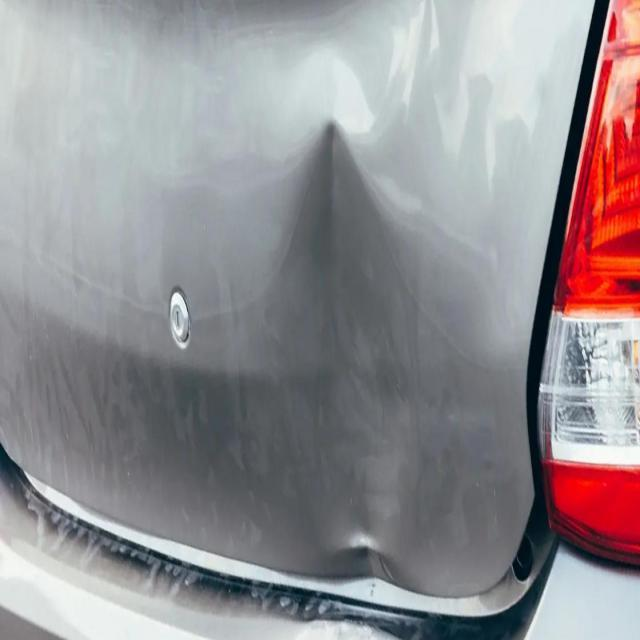dent: (269, 100, 432, 640)
